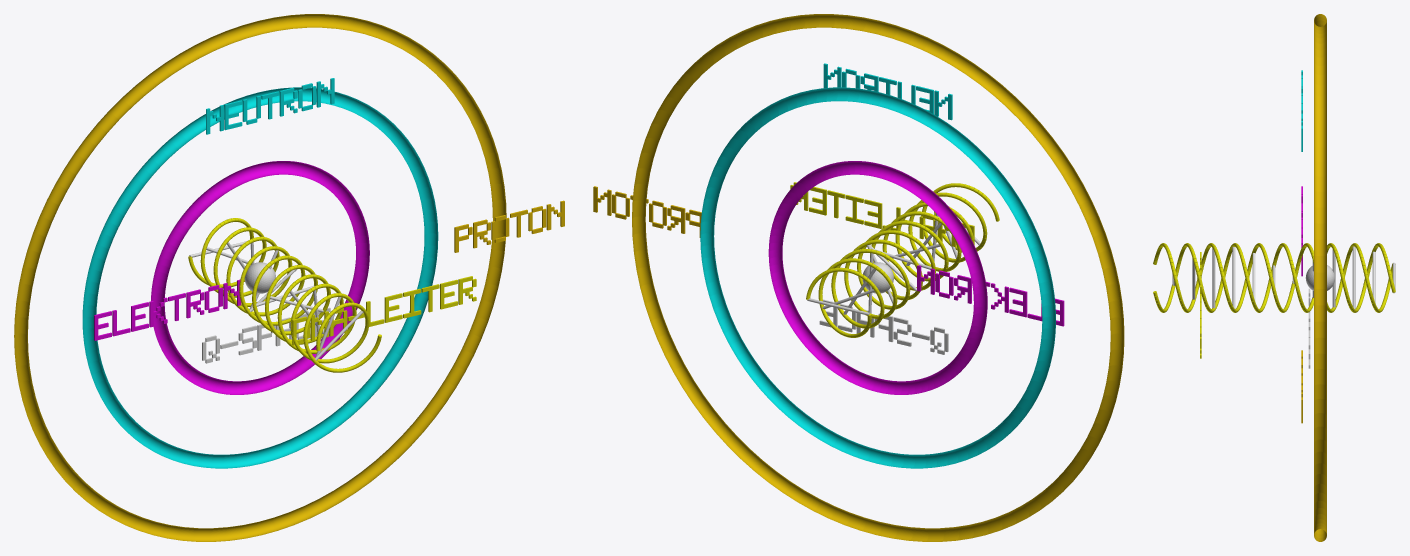
File: atomic_matroschka_triplewheel_helix_words.glb
3 renders of one model, left to right at view 1: azimuth 30°, elevation 25°; view 2: azimuth 150°, elevation 25°; view 3: azimuth 270°, elevation 25°, orthographic. The views are drawn at different scales.
Parts seen in each view (by area): view 1: Proton Wheel, Neutron Wheel, Electron Wheel, world, Label DNA-LEITER, Label ELEKTRON, Label NEUTRON, Label PROTON, Label Q-SPACE, Q-Space Core; view 2: Proton Wheel, Neutron Wheel, Electron Wheel, world, Label ELEKTRON, Label DNA-LEITER, Label NEUTRON, Label PROTON, Label Q-SPACE; view 3: Proton Wheel, world, Q-Space Core.
Part boxes in pixels (x1,y1,x2,y2): Proton Wheel: (14, 14, 506, 541); Neutron Wheel: (82, 87, 438, 468); Electron Wheel: (151, 161, 369, 394); world: (188, 218, 381, 372); Label DNA-LEITER: (292, 276, 476, 345); Label ELEKTRON: (94, 279, 241, 340); Label NEUTRON: (206, 78, 334, 134); Label PROTON: (454, 200, 564, 252); Label Q-SPACE: (202, 307, 330, 363); Q-Space Core: (244, 262, 275, 293); Proton Wheel: (632, 14, 1124, 541); Neutron Wheel: (700, 87, 1055, 468); Electron Wheel: (768, 161, 987, 394); world: (806, 183, 999, 337); Label ELEKTRON: (917, 265, 1064, 326); Label DNA-LEITER: (790, 182, 974, 246); Label NEUTRON: (823, 63, 952, 120); Label PROTON: (593, 186, 701, 237); Label Q-SPACE: (819, 299, 948, 354); Proton Wheel: (1314, 14, 1326, 541); world: (1153, 243, 1395, 312); Q-Space Core: (1305, 265, 1334, 290).
Size of the model in its own units: 3.15 by 2.87 by 1.32.
